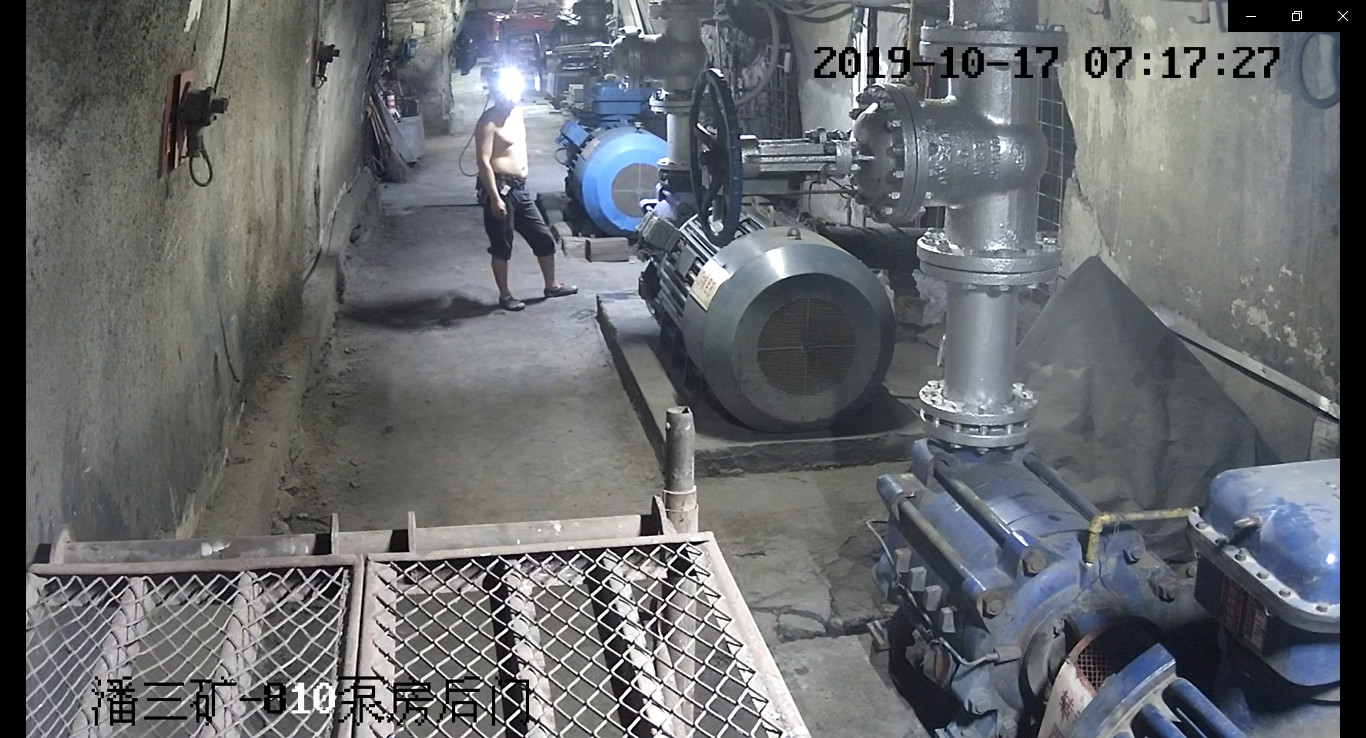helmet: (489, 67, 524, 91)
